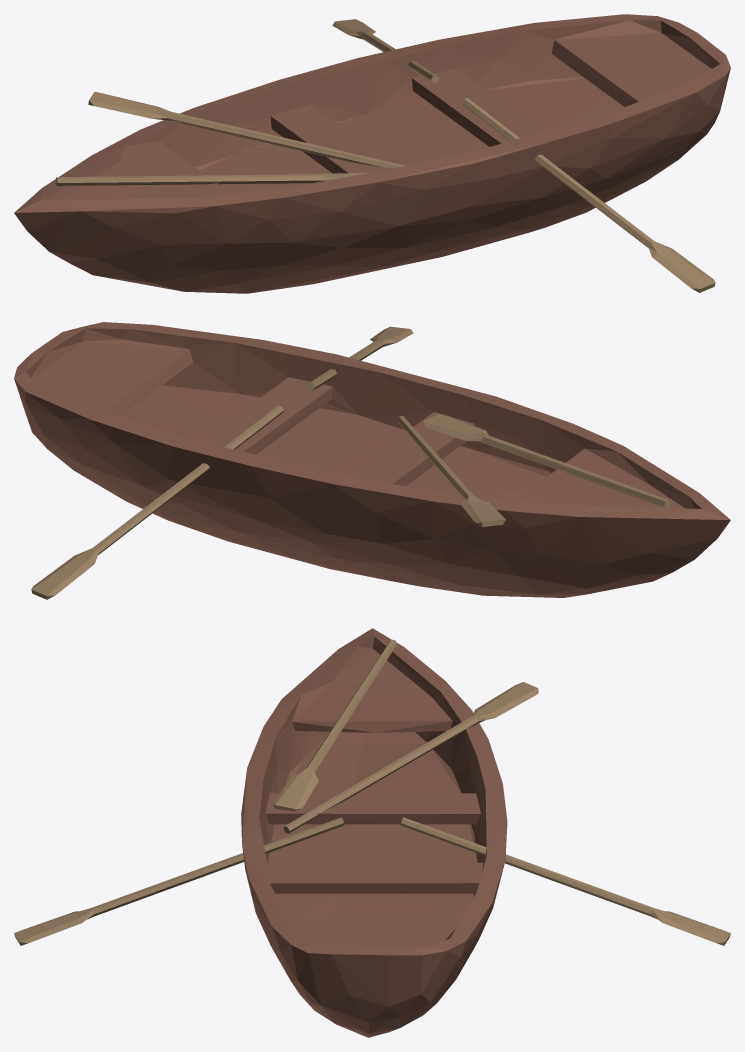
The model's file is Boat01.fbx.
The picture shows the model from 3 angles, top to bottom: view 1: azimuth 30°, elevation 25°; view 2: azimuth 150°, elevation 25°; view 3: azimuth 270°, elevation 25°; orthographic projection.
Parts seen in each view (by area): view 1: boat_01; view 2: boat_01; view 3: boat_01.
Part boxes in pixels (<box>): boat_01: <box>14,14,730,293</box>; boat_01: <box>14,322,730,599</box>; boat_01: <box>14,628,730,1037</box>.
Bounding box in the file's own units: 1127 × 250 × 1030.
